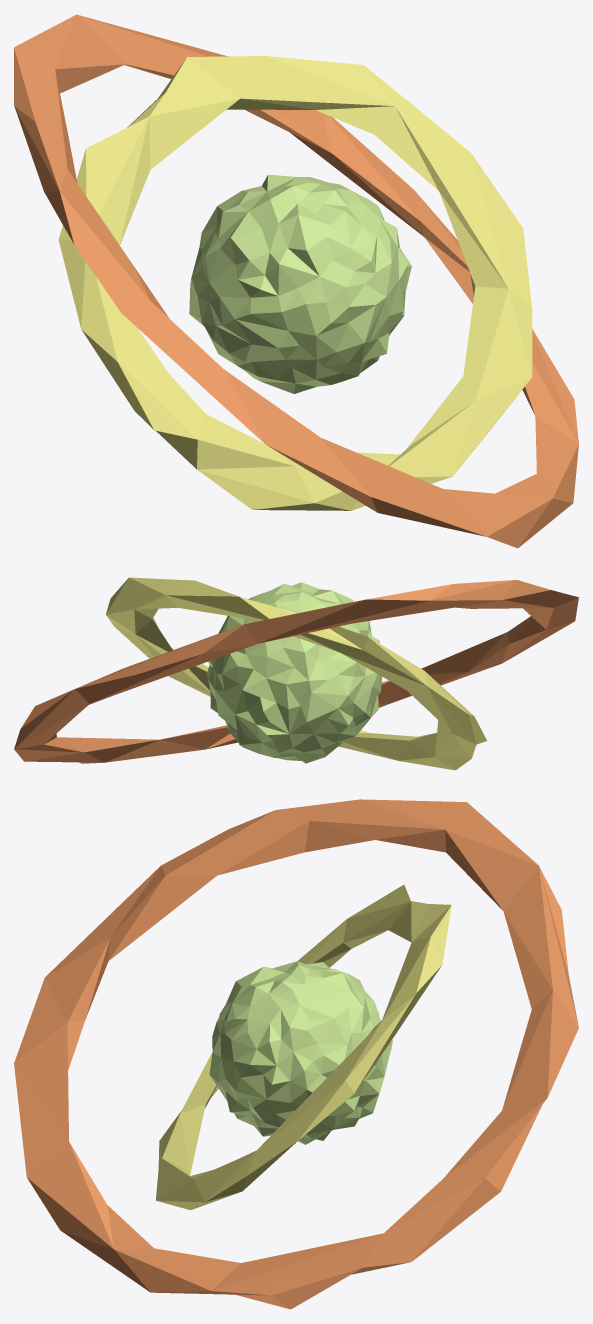
The model's file is ring_planet9.fbx.
3 renders of one model, top to bottom at view 1: azimuth 30°, elevation 25°; view 2: azimuth 150°, elevation 25°; view 3: azimuth 270°, elevation 25°, orthographic. The views are drawn at different scales.
Parts seen in each view (by area): view 1: ring_planet9; view 2: ring_planet9; view 3: ring_planet9.
Boxes of the visible parts, box(x1,y1,x2,y2) form: ring_planet9: box(14, 14, 578, 548); ring_planet9: box(14, 577, 578, 770); ring_planet9: box(14, 799, 578, 1309).
Size of the model in its own units: 567 by 413 by 622.
